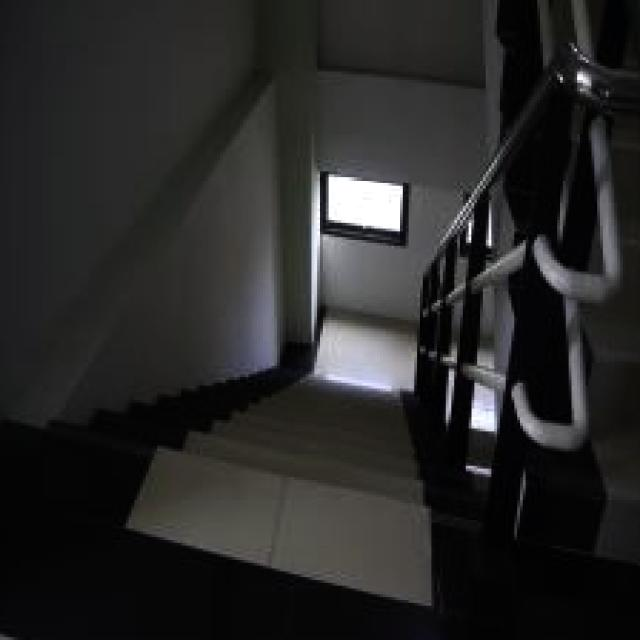downstair: (170, 396, 421, 593)
